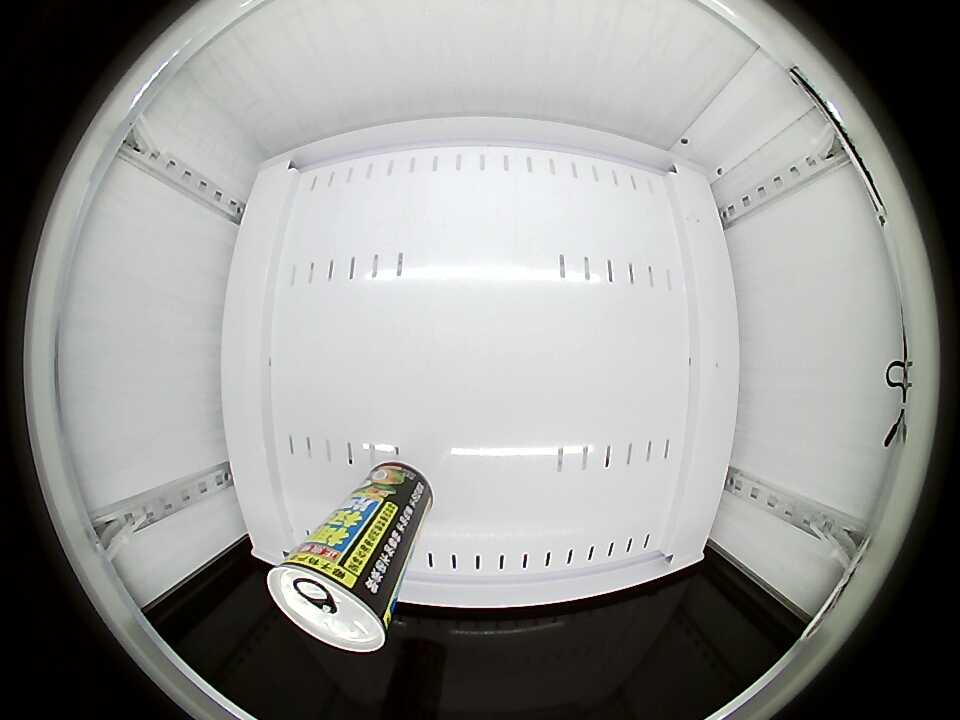yezhi: (266, 541, 396, 653)
